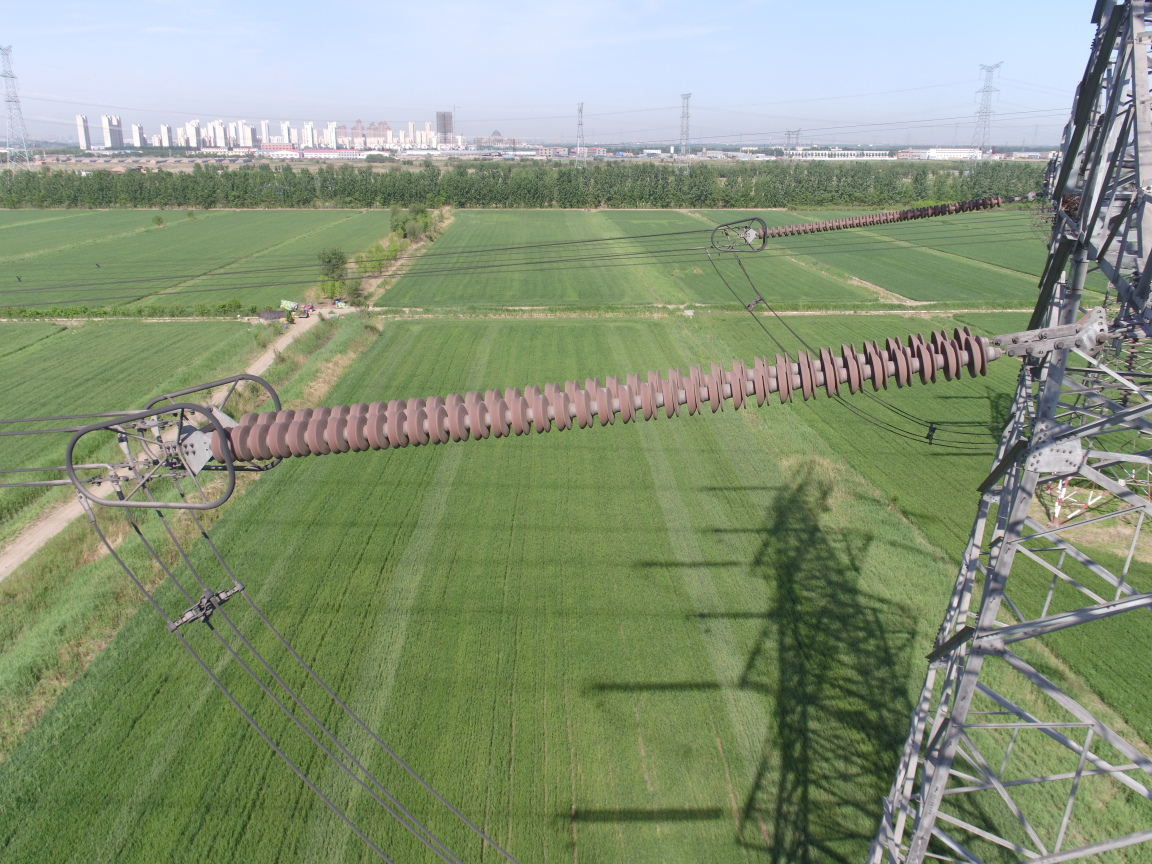insulator: (203, 323, 1034, 467), (759, 195, 1004, 239)
